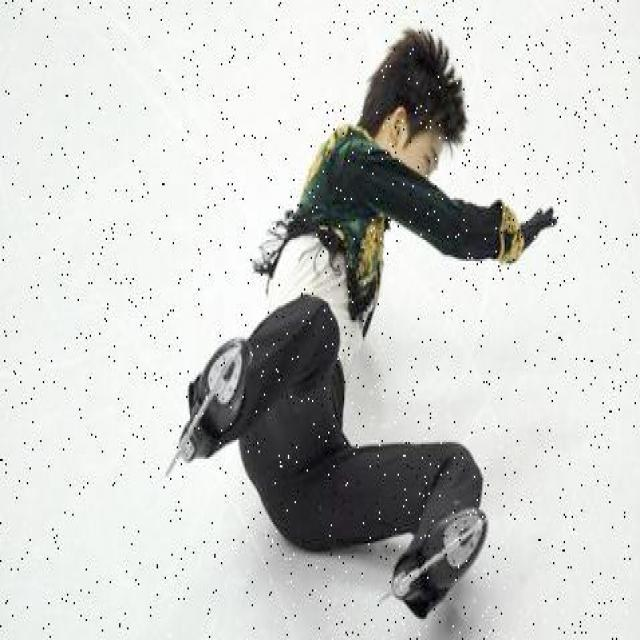fall: (226, 40, 493, 592)
